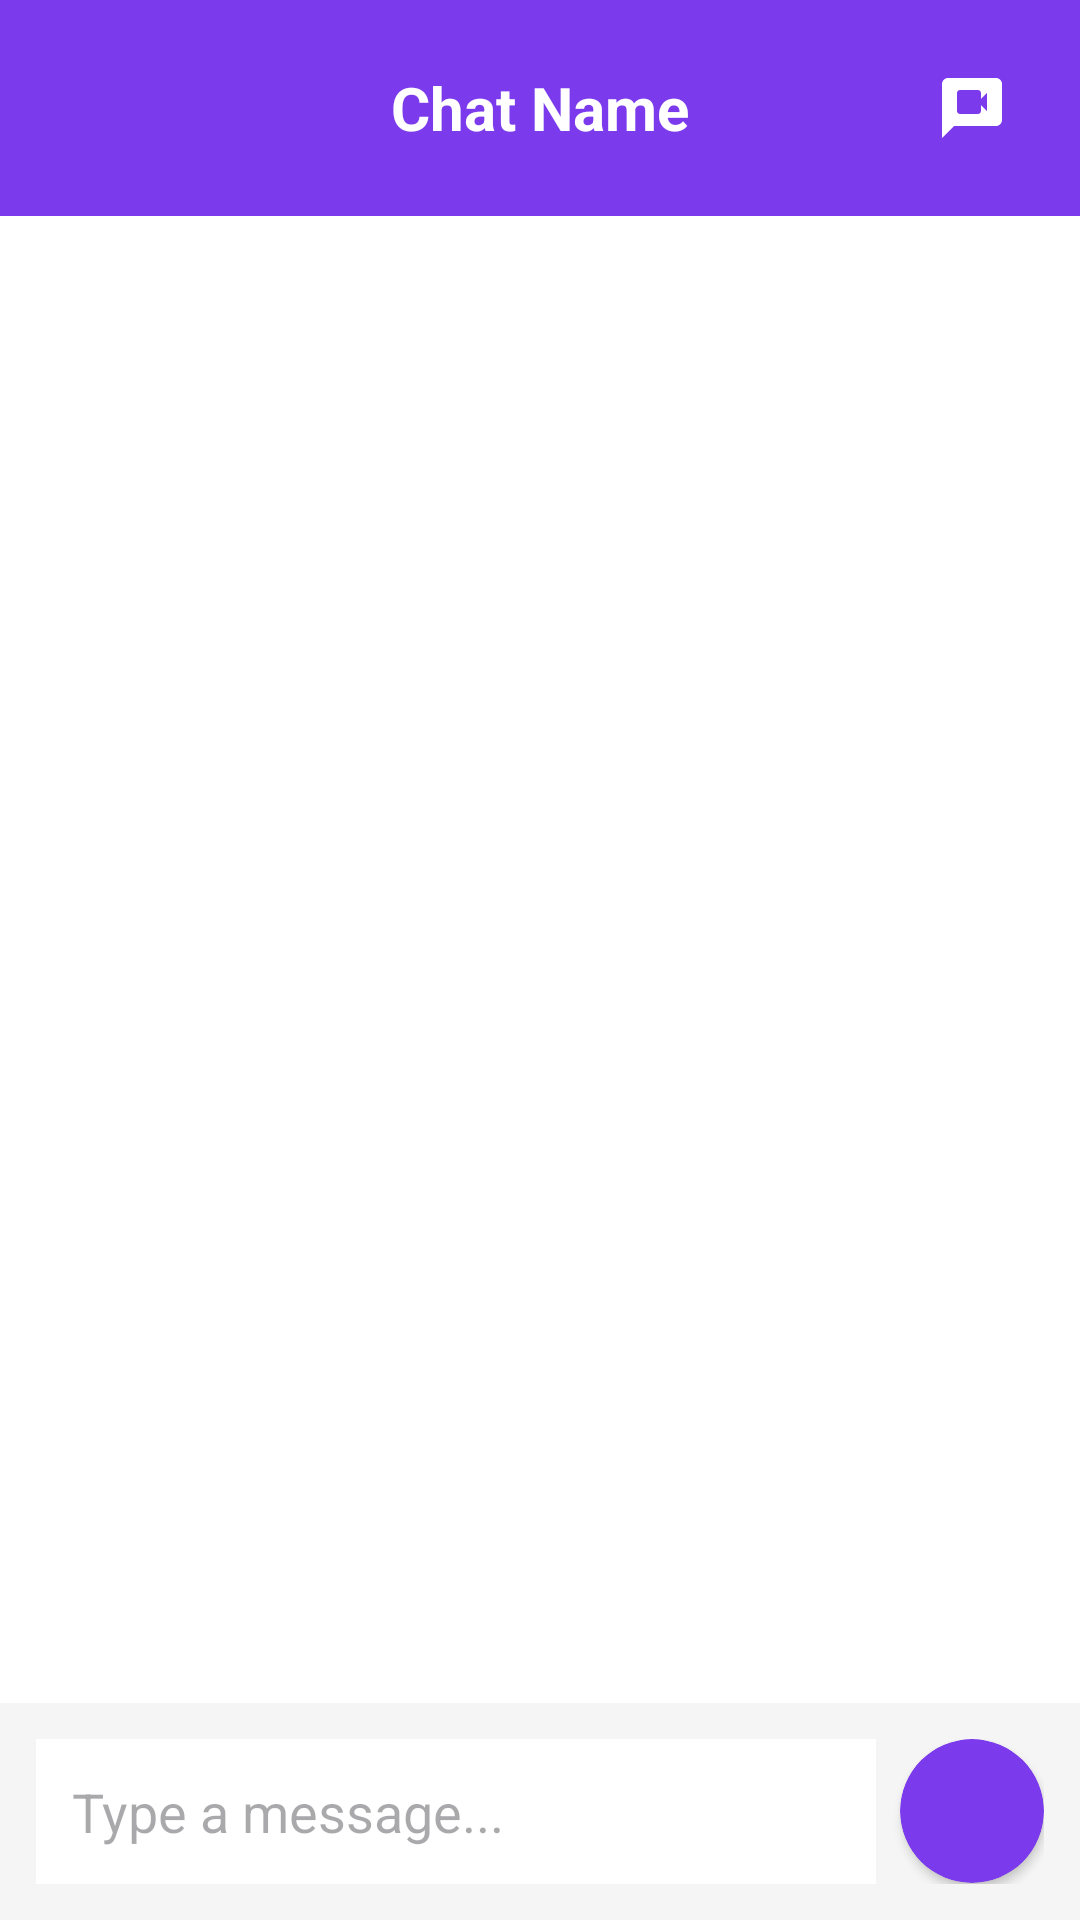

Icons on this 1080px×1920px Android screen, each with the point to tap as (x=x, y=y):
Video Call: (x=972, y=108)
